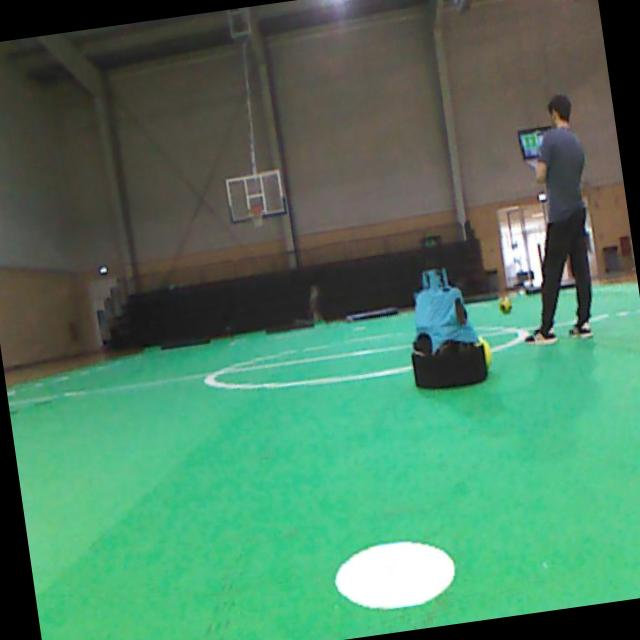ball: (480, 337, 494, 370), (500, 296, 513, 314)
